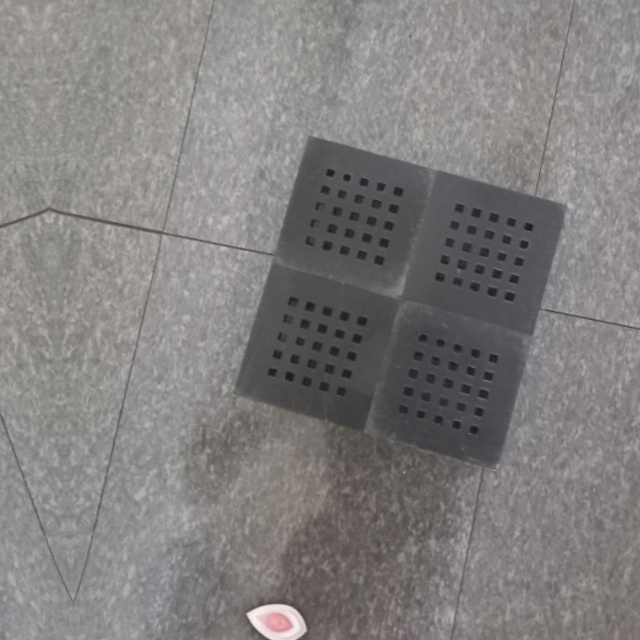pallet: (218, 121, 586, 488)
